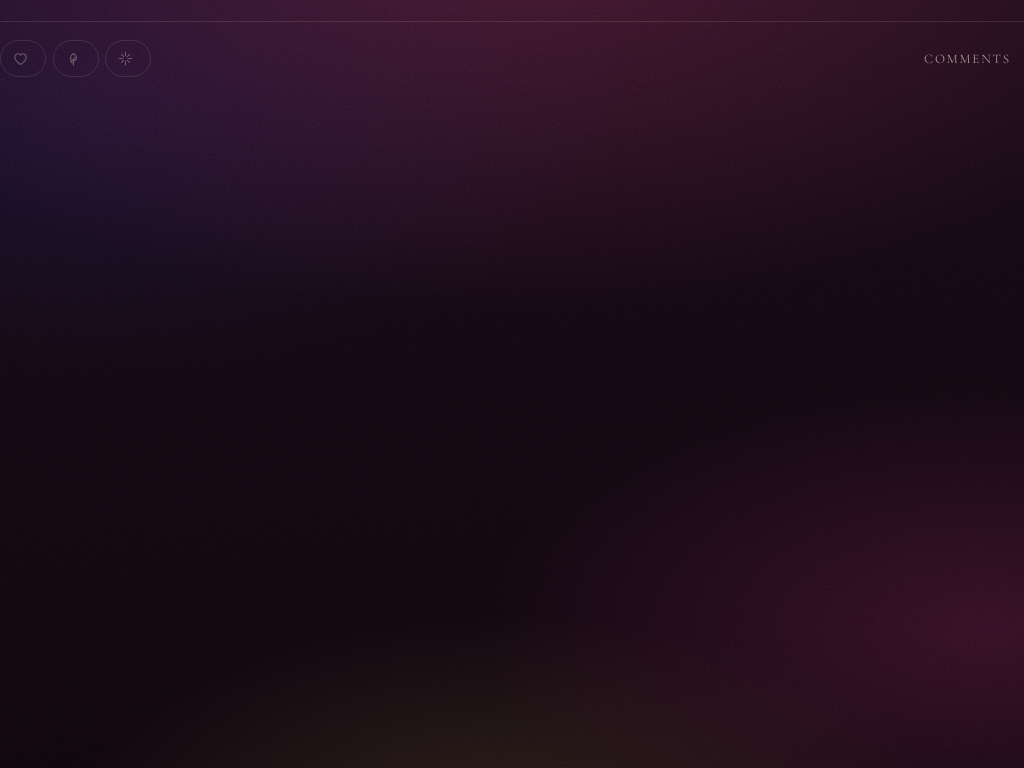
Test: comments › refuses to submit with no comment, and says which field
The width and height of the screenshot is (1024, 768).
Click the button "Comments": [968, 59] box [911, 39, 1023, 78]
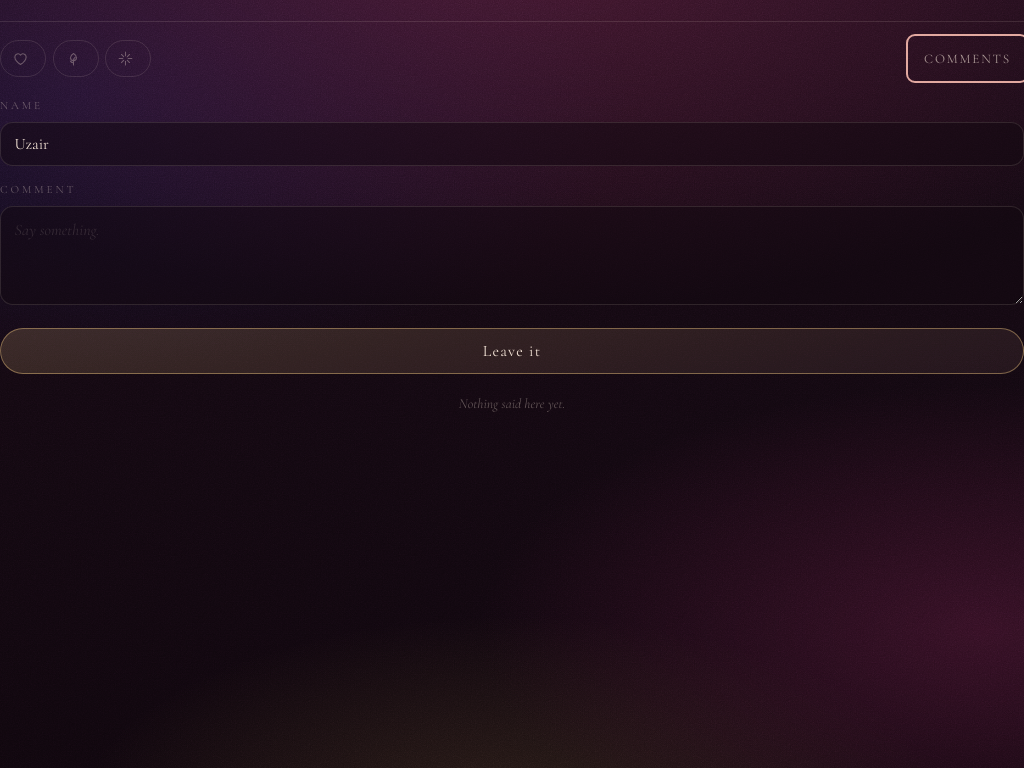
Click the button "Leave it": [512, 351] box [0, 328, 1023, 374]
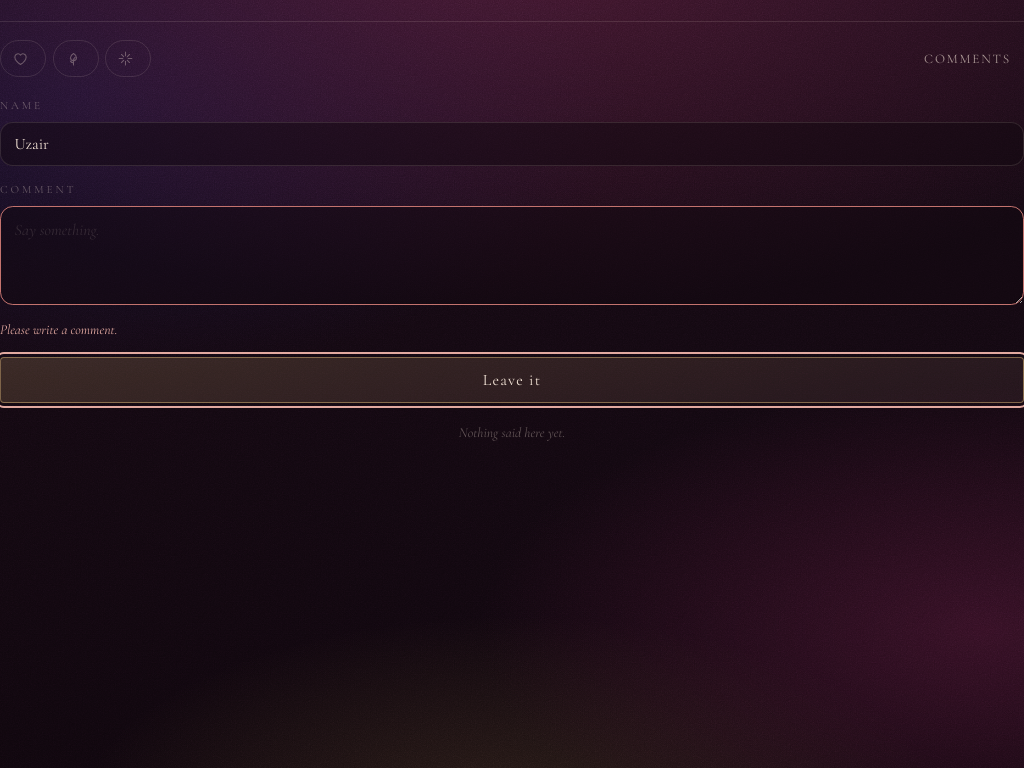
Now the text "Please write a comment." is shown, box [0, 320, 117, 338]
